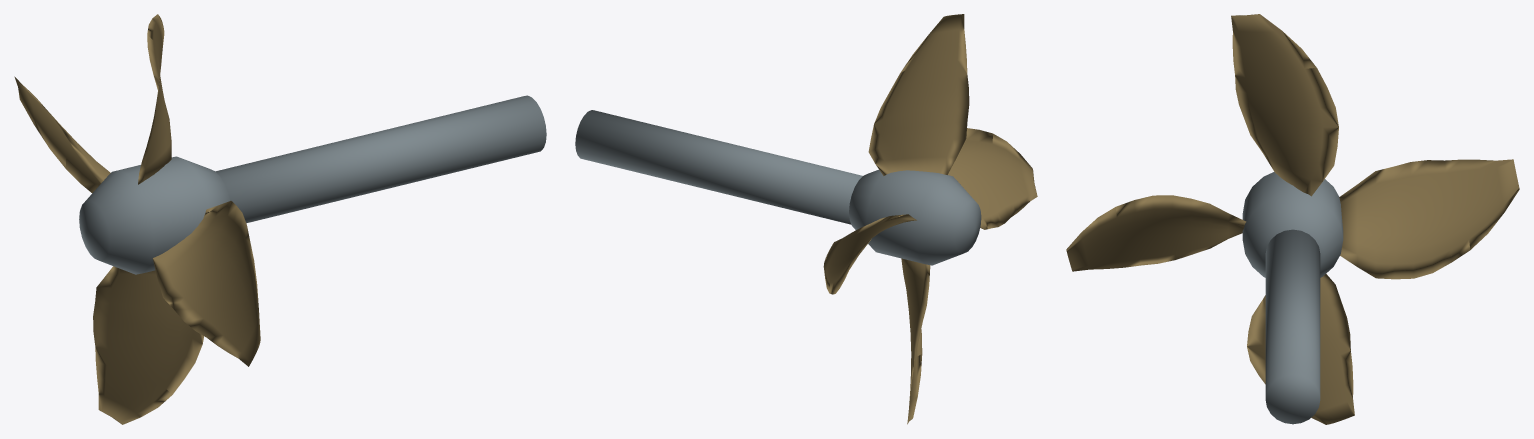
File: PROP_T03_MULTIBLADE_LOD1.fbx
The picture shows the model from 3 angles, left to right: view 1: azimuth 30°, elevation 25°; view 2: azimuth 150°, elevation 25°; view 3: azimuth 270°, elevation 25°; orthographic projection. The views are drawn at different scales.
Parts seen in each view (by area): view 1: PROP_T03_MULTIBLADE_LOD1_Shaft.001, PROP_T03_MULTIBLADE_LOD1_Blade_03.001, PROP_T03_MULTIBLADE_LOD1_Hub.001, PROP_T03_MULTIBLADE_LOD1_Blade_02.001, PROP_T03_MULTIBLADE_LOD1_Blade_00.001, PROP_T03_MULTIBLADE_LOD1_Blade_01.001; view 2: PROP_T03_MULTIBLADE_LOD1_Shaft.001, PROP_T03_MULTIBLADE_LOD1_Blade_01.001, PROP_T03_MULTIBLADE_LOD1_Hub.001, PROP_T03_MULTIBLADE_LOD1_Blade_02.001, PROP_T03_MULTIBLADE_LOD1_Blade_03.001, PROP_T03_MULTIBLADE_LOD1_Blade_00.001; view 3: PROP_T03_MULTIBLADE_LOD1_Blade_00.001, PROP_T03_MULTIBLADE_LOD1_Blade_01.001, PROP_T03_MULTIBLADE_LOD1_Shaft.001, PROP_T03_MULTIBLADE_LOD1_Blade_02.001, PROP_T03_MULTIBLADE_LOD1_Hub.001, PROP_T03_MULTIBLADE_LOD1_Blade_03.001.
Boxes of the visible parts, left/top/right/bottom form: PROP_T03_MULTIBLADE_LOD1_Shaft.001: left=215, top=95, right=546, bottom=223; PROP_T03_MULTIBLADE_LOD1_Blade_03.001: left=93, top=266, right=203, bottom=424; PROP_T03_MULTIBLADE_LOD1_Hub.001: left=79, top=156, right=229, bottom=274; PROP_T03_MULTIBLADE_LOD1_Blade_02.001: left=152, top=201, right=260, bottom=366; PROP_T03_MULTIBLADE_LOD1_Blade_00.001: left=14, top=76, right=110, bottom=193; PROP_T03_MULTIBLADE_LOD1_Blade_01.001: left=138, top=14, right=171, bottom=184; PROP_T03_MULTIBLADE_LOD1_Shaft.001: left=575, top=110, right=862, bottom=224; PROP_T03_MULTIBLADE_LOD1_Blade_01.001: left=868, top=14, right=969, bottom=175; PROP_T03_MULTIBLADE_LOD1_Hub.001: left=849, top=169, right=981, bottom=265; PROP_T03_MULTIBLADE_LOD1_Blade_02.001: left=948, top=128, right=1037, bottom=229; PROP_T03_MULTIBLADE_LOD1_Blade_03.001: left=901, top=258, right=930, bottom=424; PROP_T03_MULTIBLADE_LOD1_Blade_00.001: left=823, top=214, right=916, bottom=294; PROP_T03_MULTIBLADE_LOD1_Blade_00.001: left=1339, top=159, right=1519, bottom=279; PROP_T03_MULTIBLADE_LOD1_Blade_01.001: left=1231, top=14, right=1338, bottom=196; PROP_T03_MULTIBLADE_LOD1_Shaft.001: left=1265, top=229, right=1320, bottom=424; PROP_T03_MULTIBLADE_LOD1_Blade_02.001: left=1066, top=195, right=1246, bottom=271; PROP_T03_MULTIBLADE_LOD1_Hub.001: left=1242, top=172, right=1343, bottom=277; PROP_T03_MULTIBLADE_LOD1_Blade_03.001: left=1247, top=274, right=1354, bottom=424.
Size of the model in its own units: 424 by 397 by 397.
